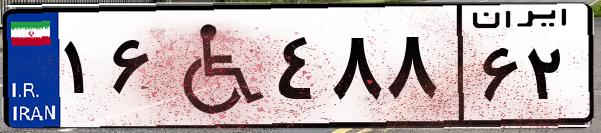1: (57, 26, 110, 100)
2: (525, 38, 570, 115)
4: (270, 28, 330, 110)
6: (475, 38, 525, 113), (110, 28, 158, 98)
8: (385, 28, 445, 110), (330, 28, 385, 110)
ژ (معلولین و جانبازان): (158, 12, 270, 120)
